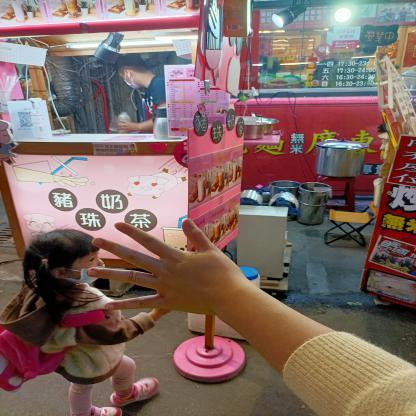bare_hand: (82, 211, 261, 324)
